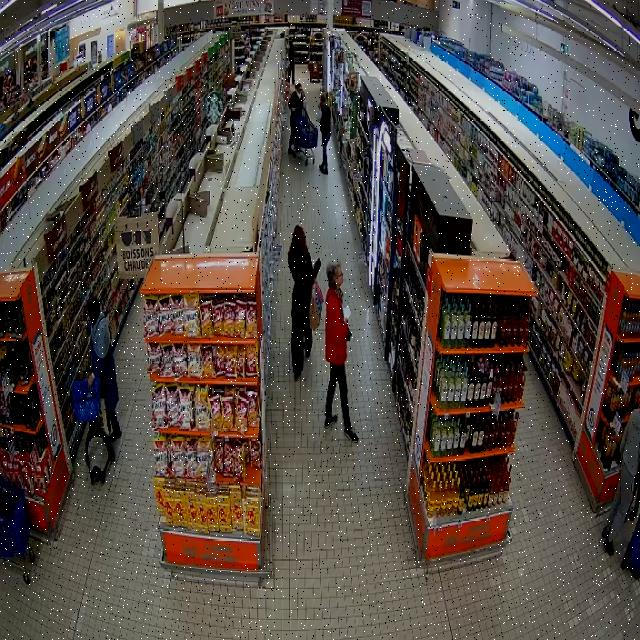bags: (296, 264, 311, 307), (310, 282, 323, 330)
hands: (88, 373, 95, 388), (314, 258, 320, 272)
person: (325, 264, 358, 443), (602, 408, 639, 555), (88, 297, 121, 442), (289, 226, 320, 380), (289, 84, 304, 155), (319, 94, 330, 174)
